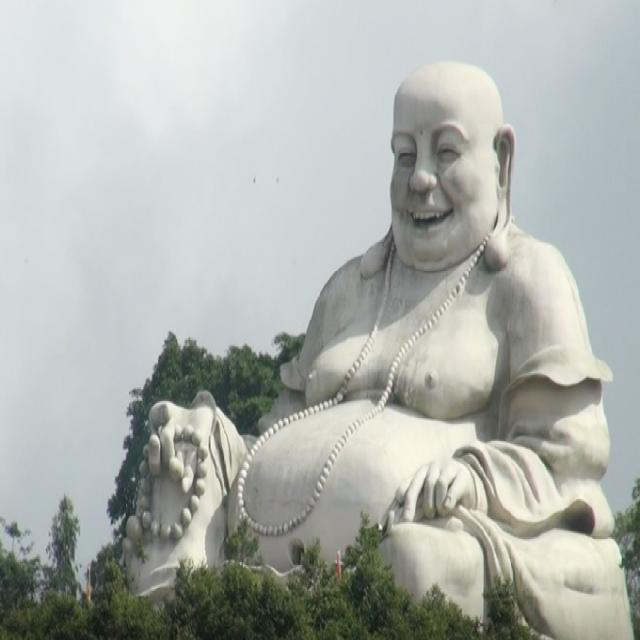Smiling Buddha: (312, 51, 538, 448)
